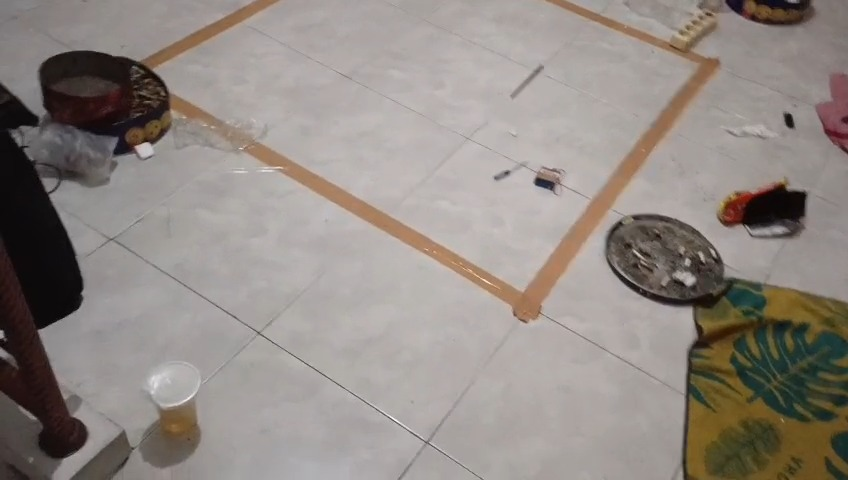floor marking: (246, 52, 718, 322), (144, 0, 278, 66), (557, 2, 674, 52), (171, 94, 225, 124)
